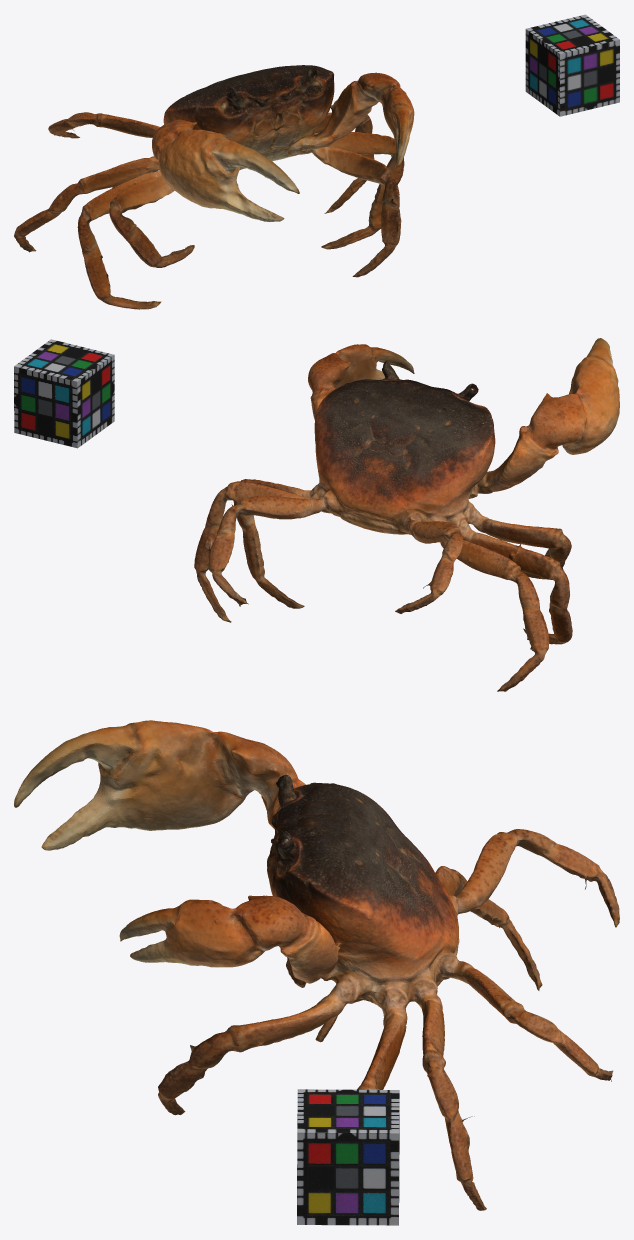
The model's file is QS1527-W03-1-2_SCALED_L4w1aDA.gltf.
The picture shows the model from 3 angles, top to bottom: view 1: azimuth 30°, elevation 25°; view 2: azimuth 150°, elevation 25°; view 3: azimuth 270°, elevation 25°; orthographic projection. The views are drawn at different scales.
Visible parts, largest first — view 1: QS1527-W03-1-2, Cube; view 2: QS1527-W03-1-2, Cube; view 3: QS1527-W03-1-2, Cube.
Boxes of the visible parts, x1,y1,x2,y2 form: QS1527-W03-1-2: (14, 65, 414, 309); Cube: (525, 14, 619, 116); QS1527-W03-1-2: (194, 338, 619, 691); Cube: (14, 339, 114, 448); QS1527-W03-1-2: (14, 720, 619, 1210); Cube: (297, 1089, 399, 1225).
Size of the model in its own units: 0.0868 by 0.0345 by 0.0576.
Materials: 2 (2 with a texture image).
